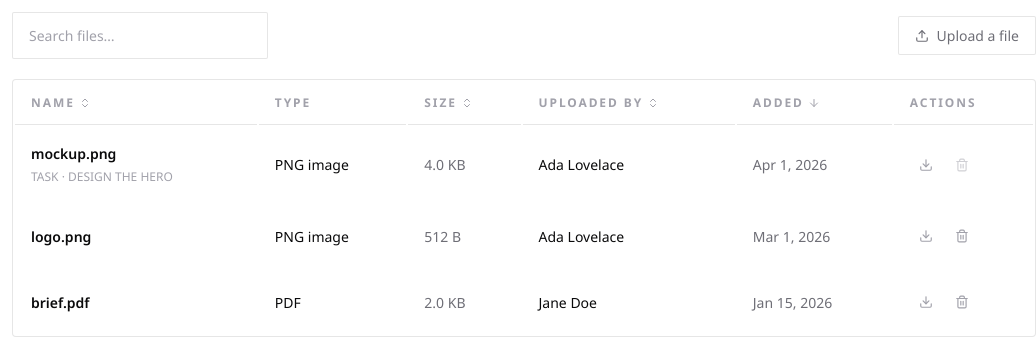
Test case: ProjectFilesTable › finds a task attachment by searching the task name
Type "hero" into the search field labelled "Search files" at (140, 36), box [12, 12, 268, 59]
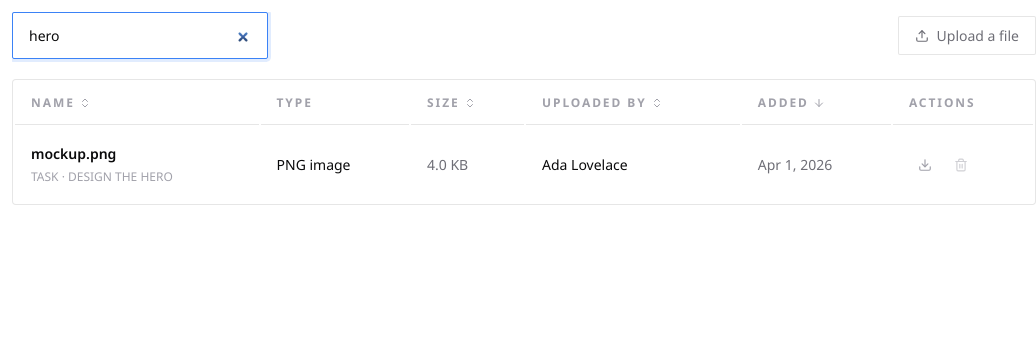
expect the text "mockup.png" is shown: met, box [31, 144, 116, 163]
expect the text "brief.pdf" is gone: met
